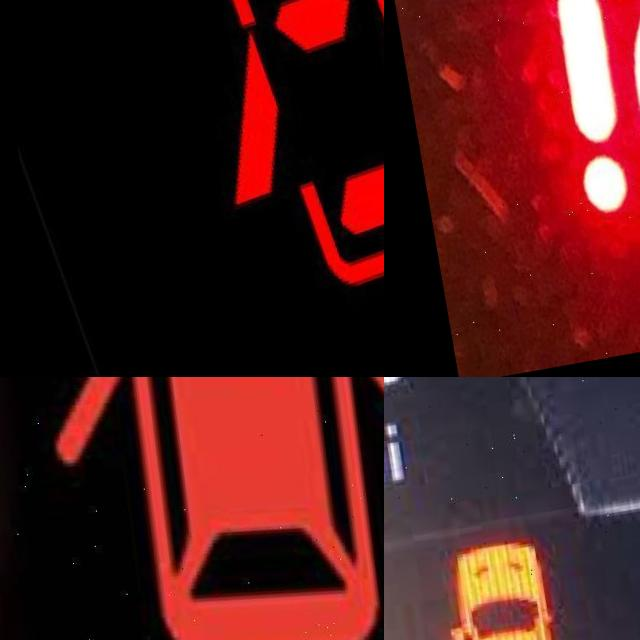Electronic Power Steering Warning: (536, 0, 640, 254)
